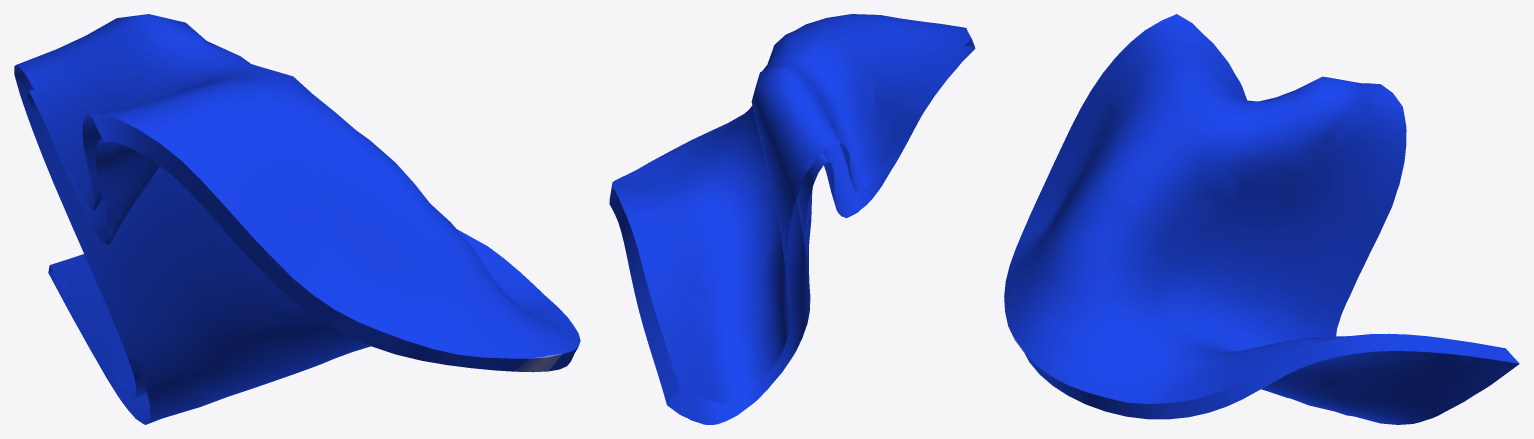
The model's file is s1_foot.fbx.
3 renders of one model, left to right at view 1: azimuth 30°, elevation 25°; view 2: azimuth 150°, elevation 25°; view 3: azimuth 270°, elevation 25°, orthographic. The views are drawn at different scales.
Parts seen in each view (by area): view 1: s1_foot; view 2: s1_foot; view 3: s1_foot.
Part boxes in pixels (left/top/right/bottom): s1_foot: left=14, top=14, right=580, bottom=424; s1_foot: left=609, top=14, right=975, bottom=424; s1_foot: left=1004, top=14, right=1519, bottom=424.
Size of the model in its own units: 156 by 148 by 201.
